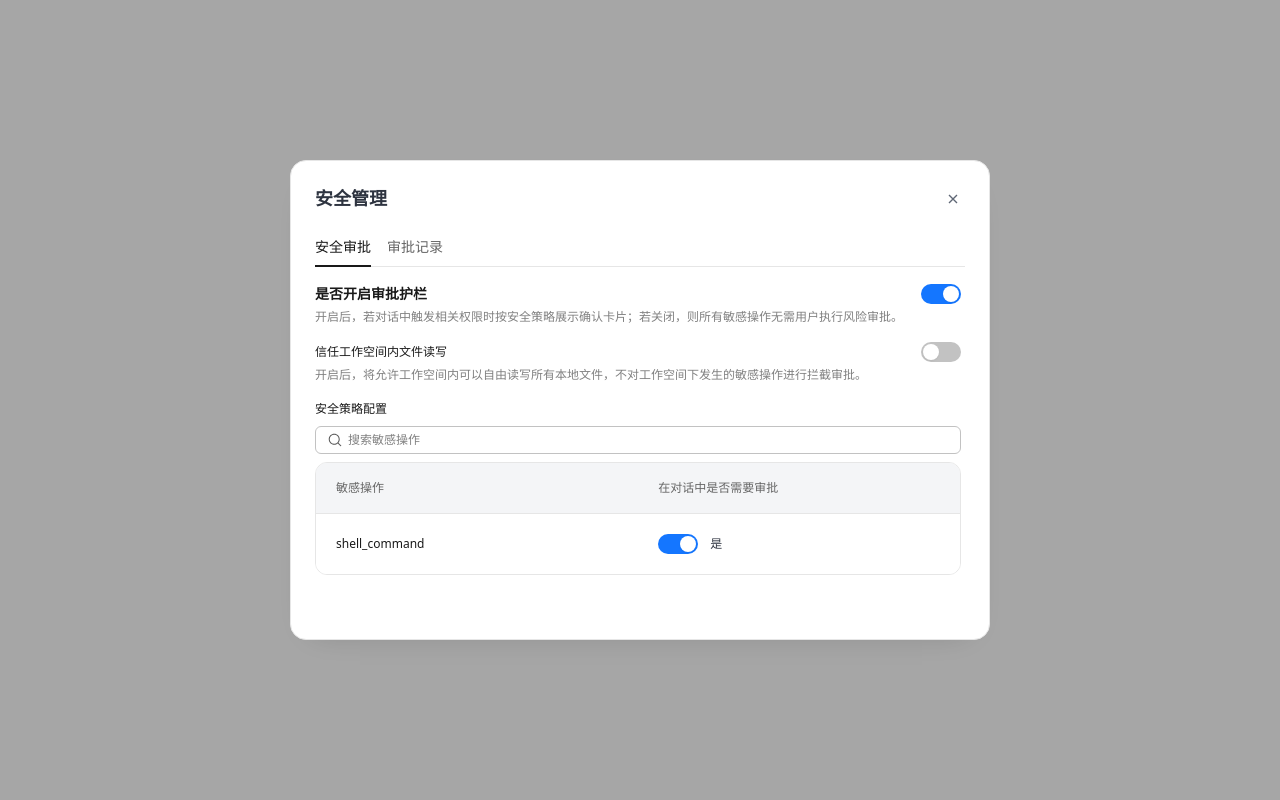
Test: SecurityManagementModal › approval records tab › renders both tabs and lazy-loads records only after switching to approval records
expect the tab "安全审批" is shown: met, box [315,228,371,267]
Click the tab "审批记录".
click(415, 248)  # box [387,228,443,267]
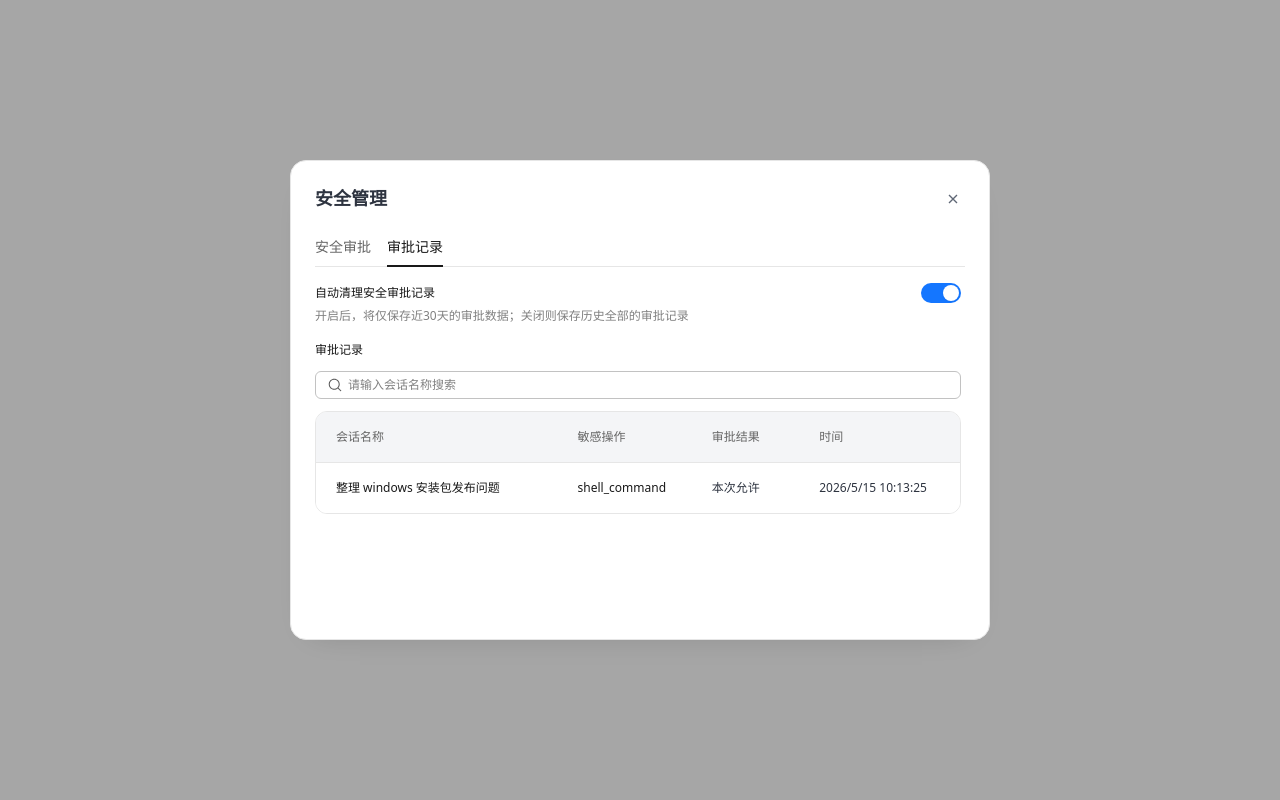
expect the text "自动清理安全审批记录" is shown: met, box [315,284,435,302]
expect the text "开启后，将仅保存近30天的审批数据；关闭则保存历史全部的审批记录" is shown: met, box [315,307,689,324]
expect the heading with test id "approval-records-title" reads "审批记录": met, box [315,341,363,358]
